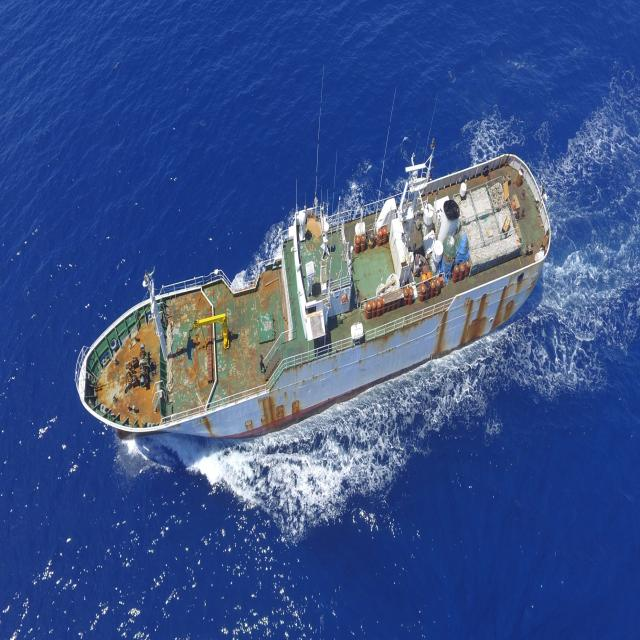boat: (70, 122, 566, 494)
